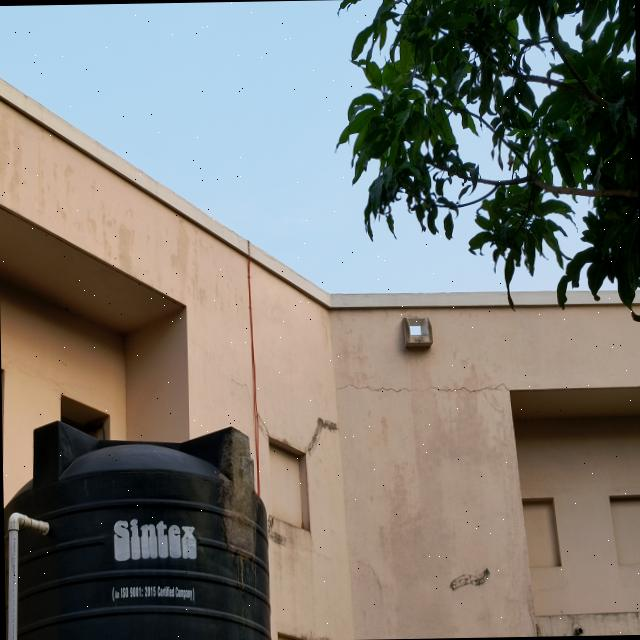Crack: (424, 379, 510, 399), (335, 382, 416, 394)
Moss growth due to damping: (219, 428, 257, 556)
